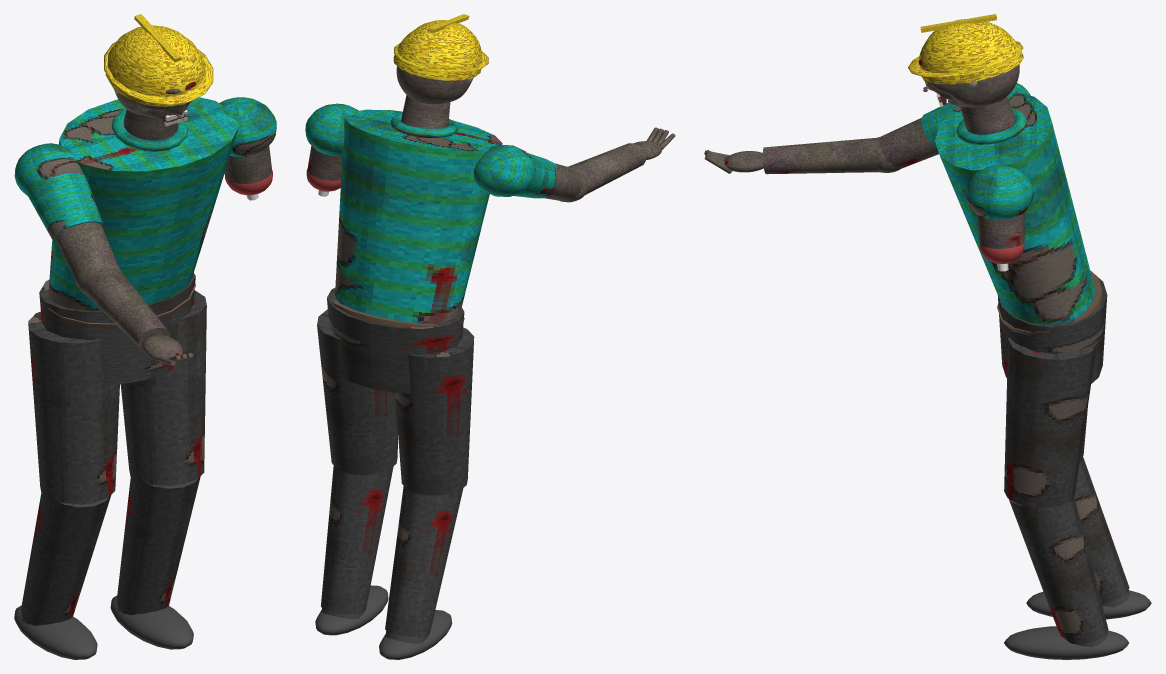
File: Zombie_071.glb
The picture shows the model from 3 angles, left to right: view 1: azimuth 30°, elevation 25°; view 2: azimuth 150°, elevation 25°; view 3: azimuth 270°, elevation 25°; orthographic projection. The views are drawn at different scales.
Parts seen in each view (by area): view 1: Zombie_071, object 35, object 3, object 36, object 9, object 4, object 37; view 2: Zombie_071, object 35, object 3, object 9; view 3: Zombie_071, object 35, object 3, object 9, object 4.
Boxes of the visible parts, x1=… form: Zombie_071: x1=14, y1=97, x2=276, y2=659; object 35: x1=105, y1=25, x2=205, y2=107; object 3: x1=82, y1=267, x2=170, y2=349; object 36: x1=104, y1=41, x2=213, y2=105; object 9: x1=114, y1=81, x2=198, y2=119; object 4: x1=142, y1=334, x2=182, y2=361; object 37: x1=134, y1=14, x2=181, y2=61; Zombie_071: x1=305, y1=95, x2=583, y2=659; object 35: x1=393, y1=20, x2=481, y2=80; object 3: x1=568, y1=143, x2=646, y2=194; object 9: x1=396, y1=66, x2=473, y2=103; Zombie_071: x1=878, y1=83, x2=1151, y2=659; object 35: x1=918, y1=19, x2=1023, y2=84; object 3: x1=762, y1=137, x2=879, y2=174; object 9: x1=918, y1=59, x2=1019, y2=107; object 4: x1=724, y1=151, x2=763, y2=172.
Bounding box in the file's own units: 0.7018 × 1.69 × 1.11.
18 materials, 6 textured.
